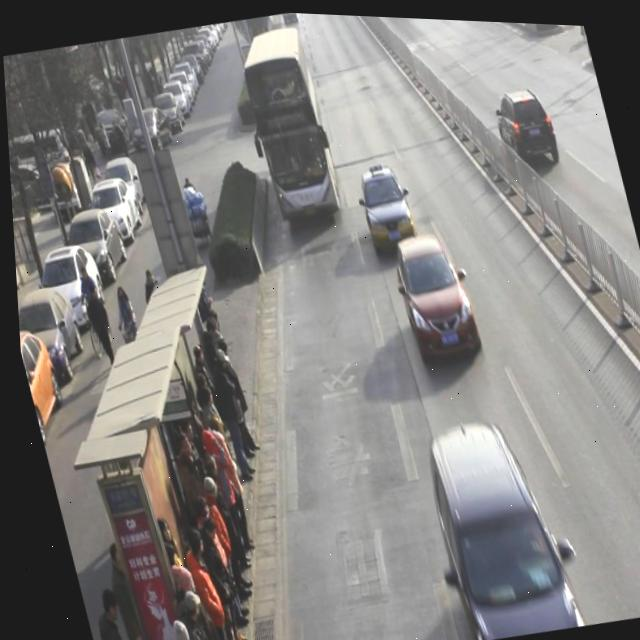car: (408, 408, 578, 640), (386, 225, 481, 363), (489, 80, 562, 170), (353, 162, 419, 254)
van: (233, 22, 342, 219)
